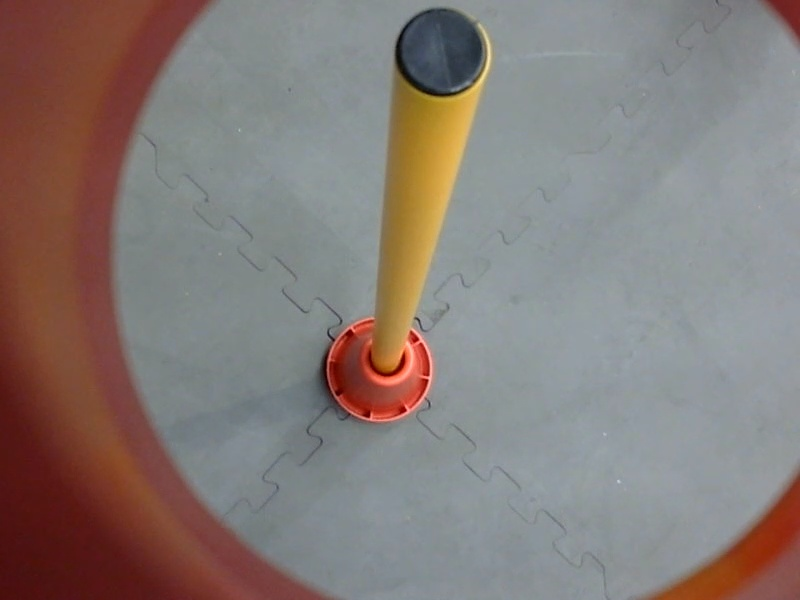tip: (386, 4, 499, 107)
